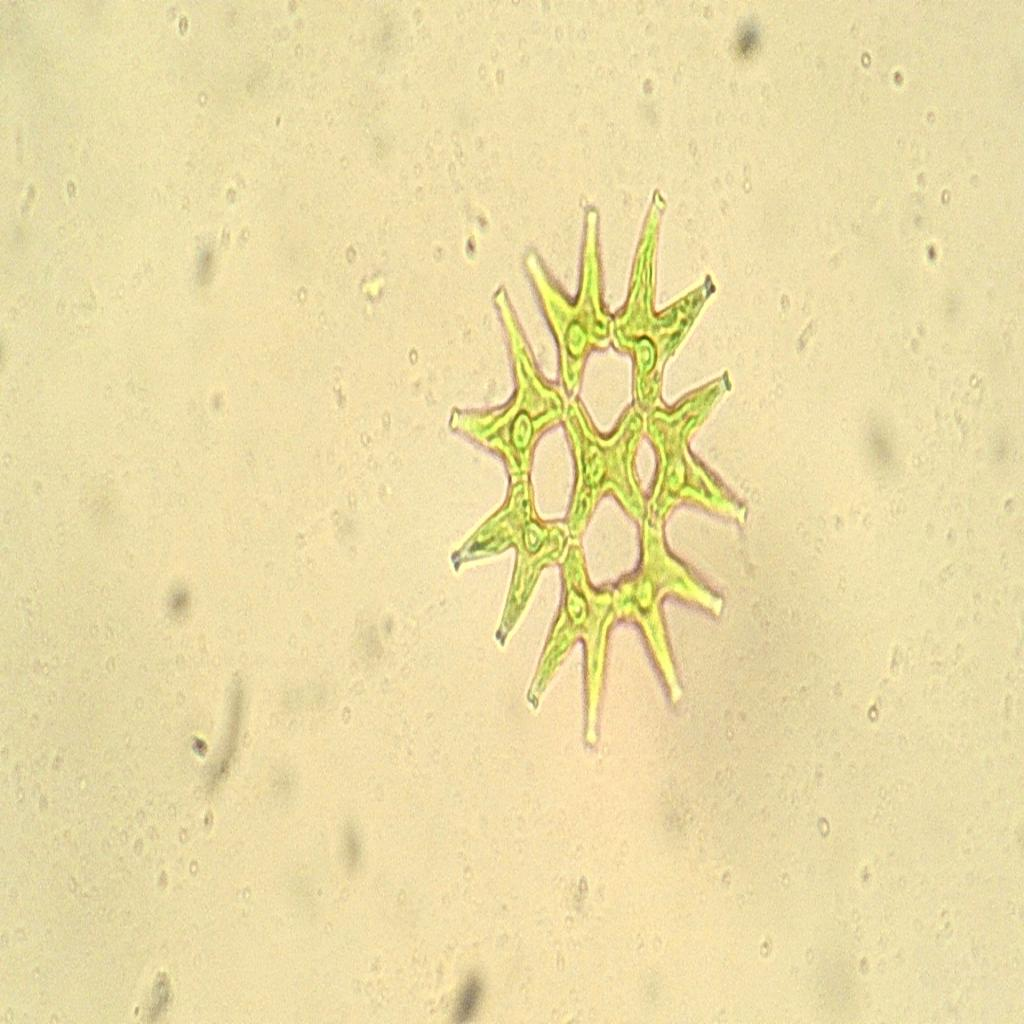Pediastrum_75T: (438, 174, 769, 764)
